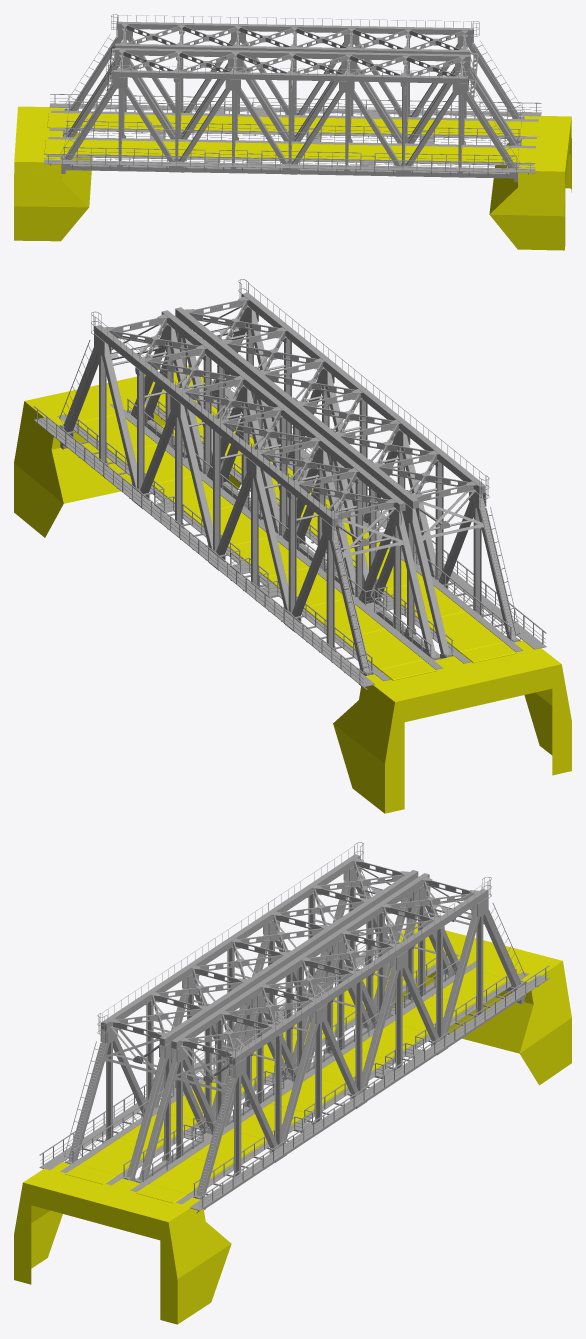
Rendered from MV_Bridge_2.fbx.
The picture shows the model from 3 angles, top to bottom: view 1: azimuth 30°, elevation 25°; view 2: azimuth 150°, elevation 25°; view 3: azimuth 270°, elevation 25°; orthographic projection. The views are drawn at different scales.
Visible parts, largest first — view 1: test_BR16; view 2: test_BR16; view 3: test_BR16.
Boxes of the visible parts, <box> form: test_BR16: <box>14,14,571,250</box>; test_BR16: <box>14,279,571,813</box>; test_BR16: <box>14,842,571,1324</box>.
Size of the model in its own units: 5757 by 1990 by 4451.
